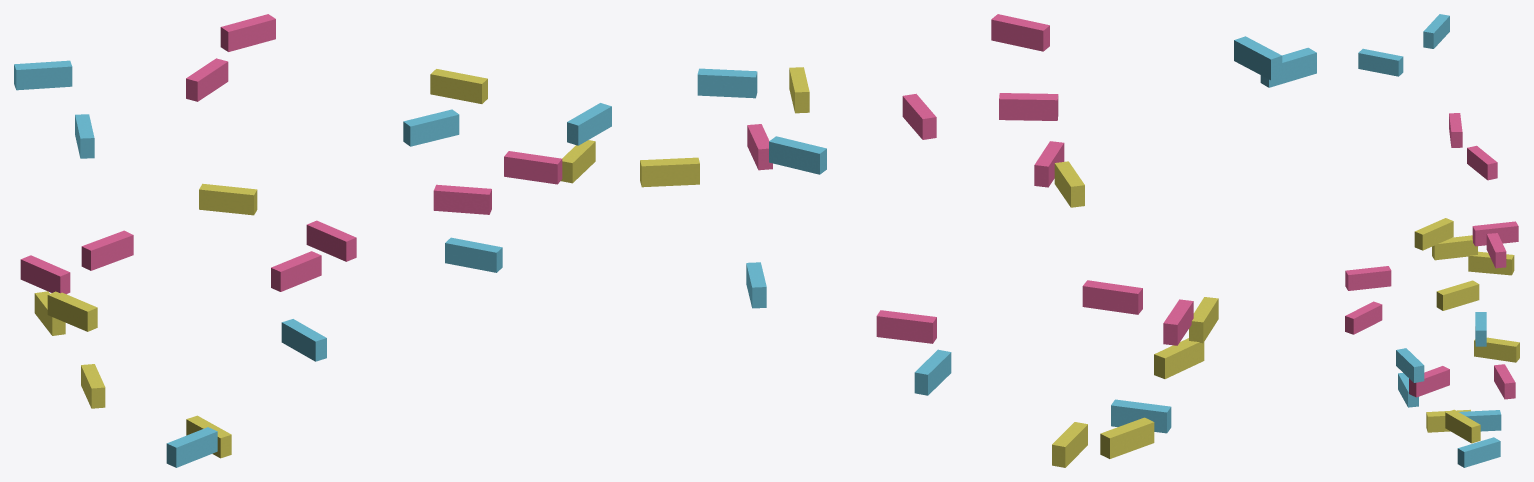
The model's file is confetti.glb.
3 renders of one model, left to right at view 1: azimuth 30°, elevation 25°; view 2: azimuth 150°, elevation 25°; view 3: azimuth 270°, elevation 25°, orthographic. The views are drawn at different scales.
Parts seen in each view (by area): view 1: Confetti dimensional effect.001; view 2: Confetti dimensional effect.001; view 3: Confetti dimensional effect.001.
Part boxes in pixels (bbox=[...]): Confetti dimensional effect.001: bbox=[14, 14, 611, 467]; Confetti dimensional effect.001: bbox=[640, 14, 1316, 467]; Confetti dimensional effect.001: bbox=[1345, 14, 1519, 467].
Size of the model in its own units: 1.71 by 1.17 by 0.5481.
Materials: 1 (1 with a texture image).
